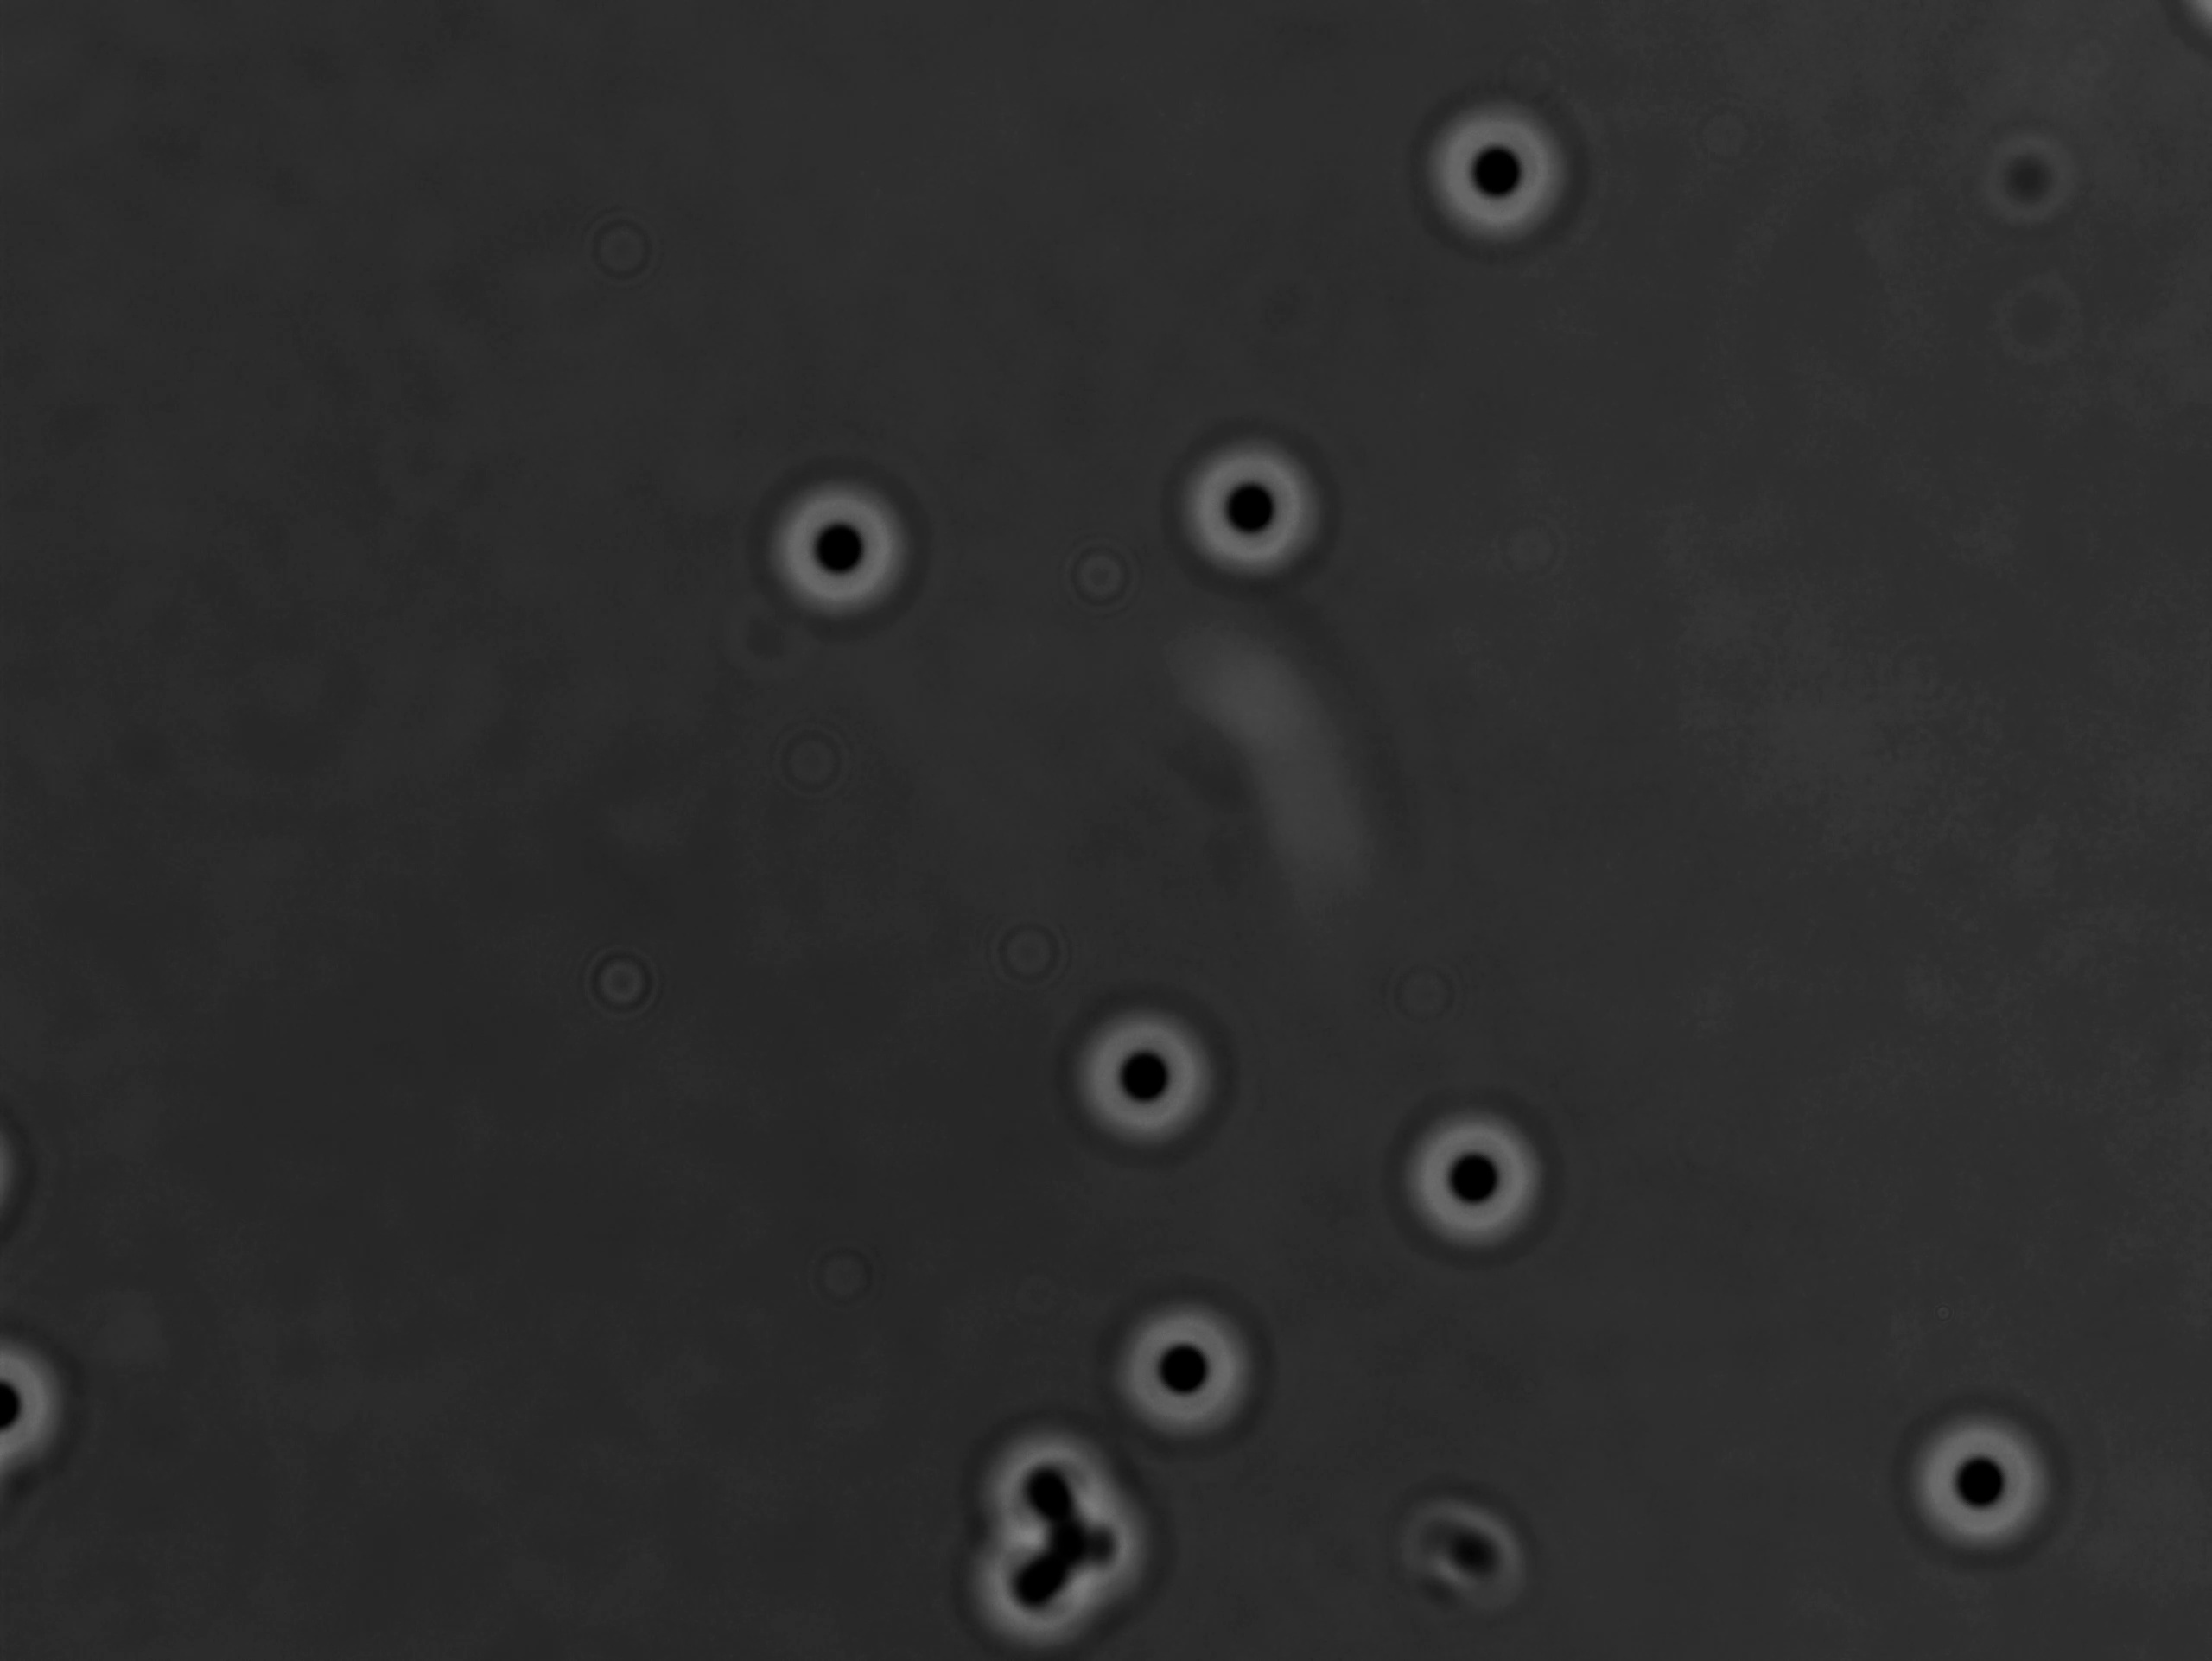depth:-40: (1171, 419, 1343, 598), (1898, 1403, 2079, 1570), (1059, 993, 1230, 1165), (1415, 87, 1591, 253), (759, 459, 930, 625), (1387, 1101, 1563, 1260), (1113, 1293, 1272, 1446)
